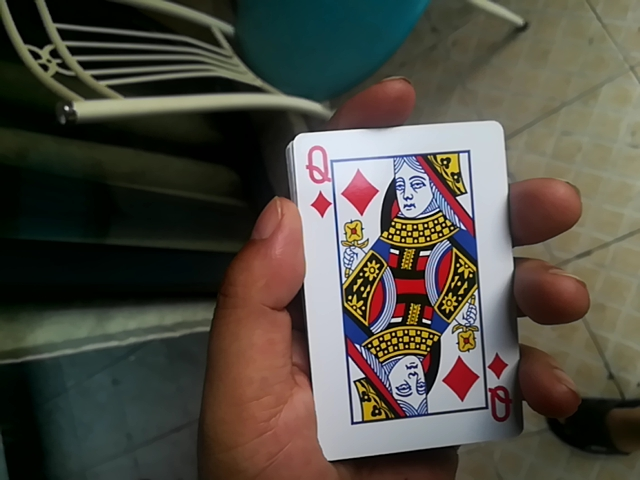fk q: (284, 114, 529, 475)
